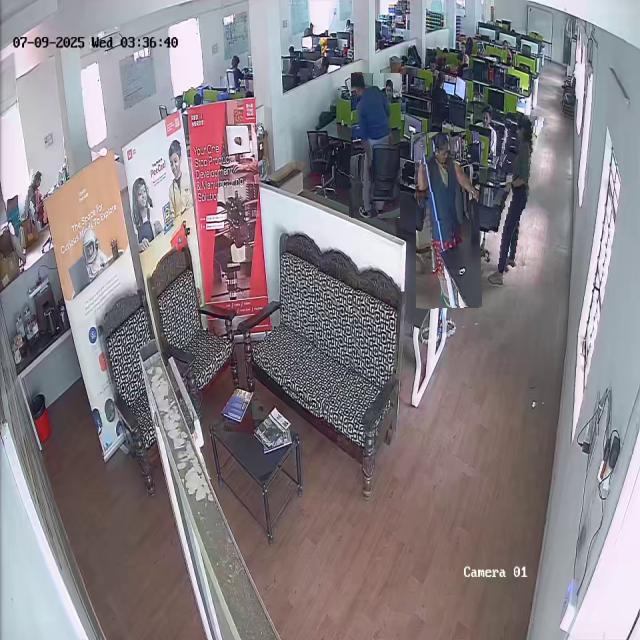person: (414, 132, 480, 309), (486, 113, 541, 289), (350, 73, 401, 218), (24, 170, 54, 222)
